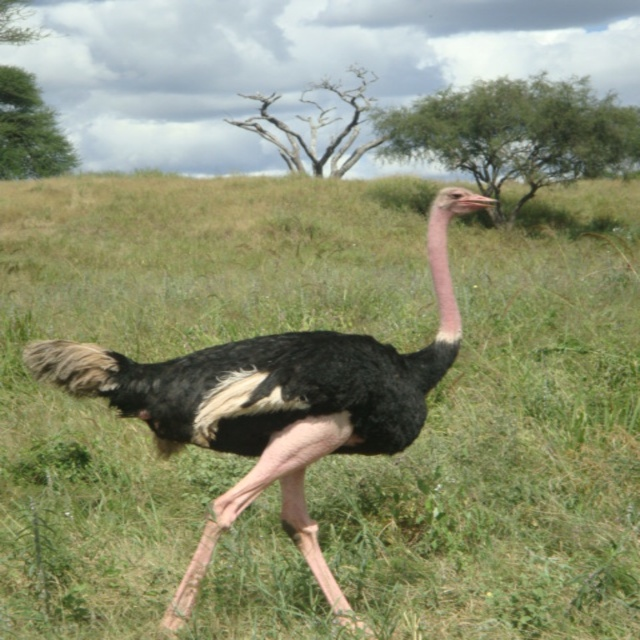Ostrich: (23, 187, 498, 640)
